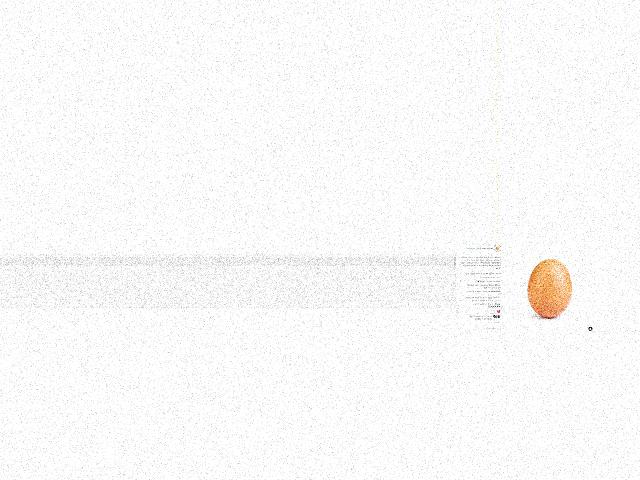egg: (527, 259, 571, 317)
